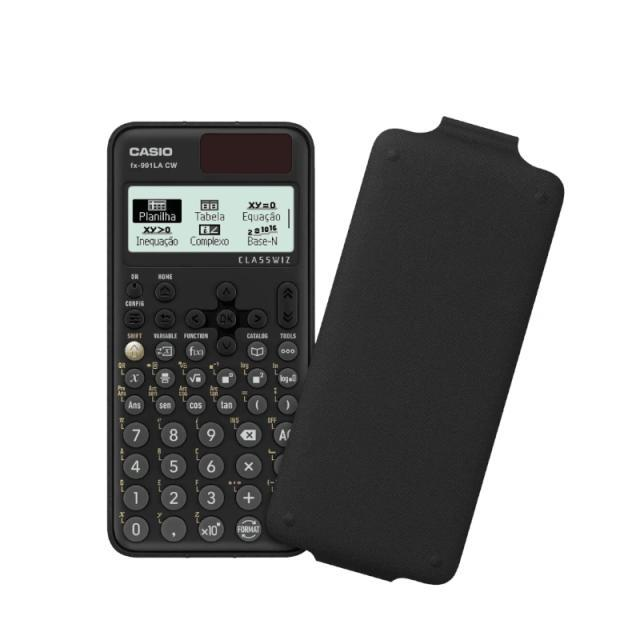Calculator: (99, 117, 338, 595)
